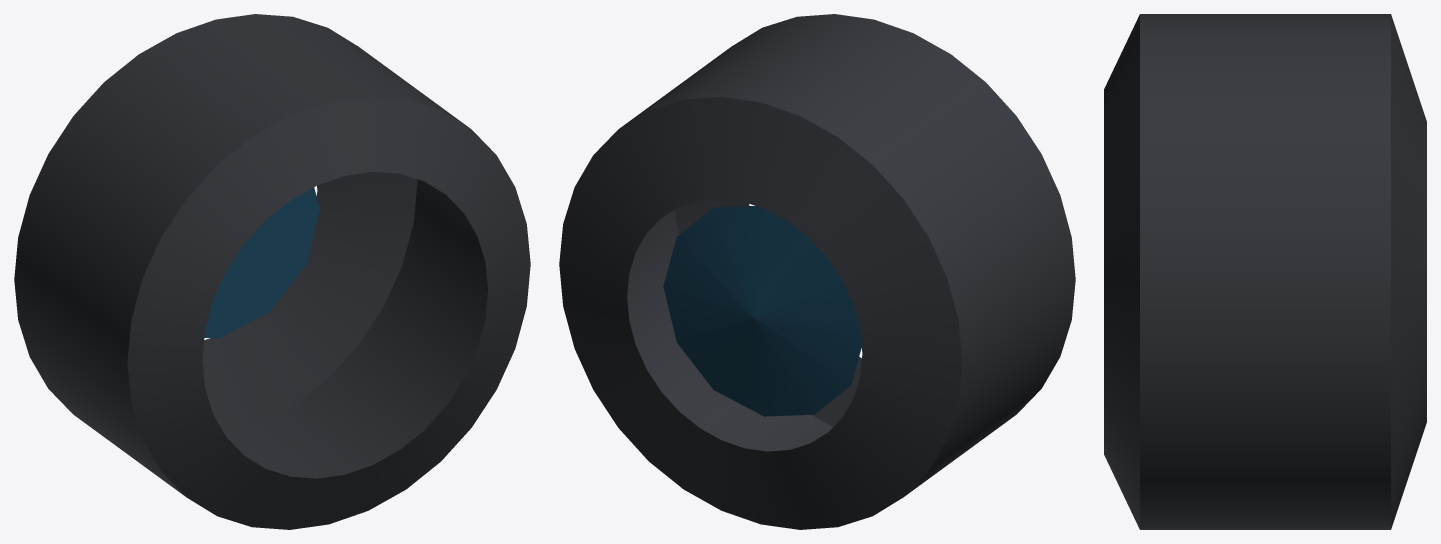
Rendered from fl_lens_head.obj.
3 views of the same model, side by side, from view 1: azimuth 30°, elevation 25°; view 2: azimuth 150°, elevation 25°; view 3: azimuth 270°, elevation 25° (orthographic). The views are drawn at different scales.
Visible parts, largest first — view 1: fl_lens_head; view 2: fl_lens_head; view 3: fl_lens_head.
Boxes of the visible parts, x1,y1,x2,y2 form: fl_lens_head: (14,14,530,529); fl_lens_head: (559,14,1075,529); fl_lens_head: (1104,14,1426,529).
Bounding box in the file's own units: 0.72 × 0.72 × 0.45.
